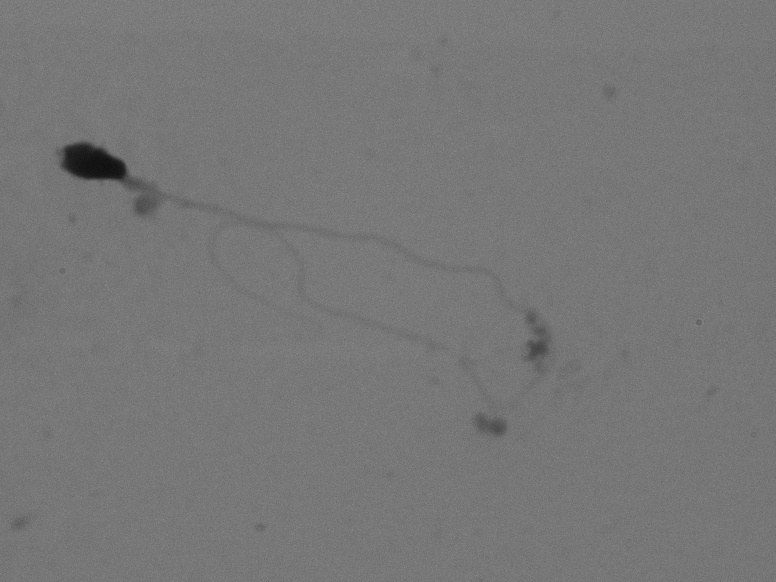Abnormal: (40, 125, 573, 427)
